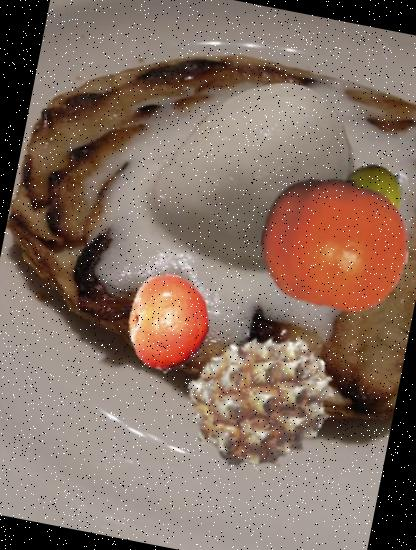Clementine: (247, 155, 416, 330), (110, 266, 228, 384)
Maracuja: (335, 156, 410, 230)
Pineapple: (176, 316, 350, 490)
